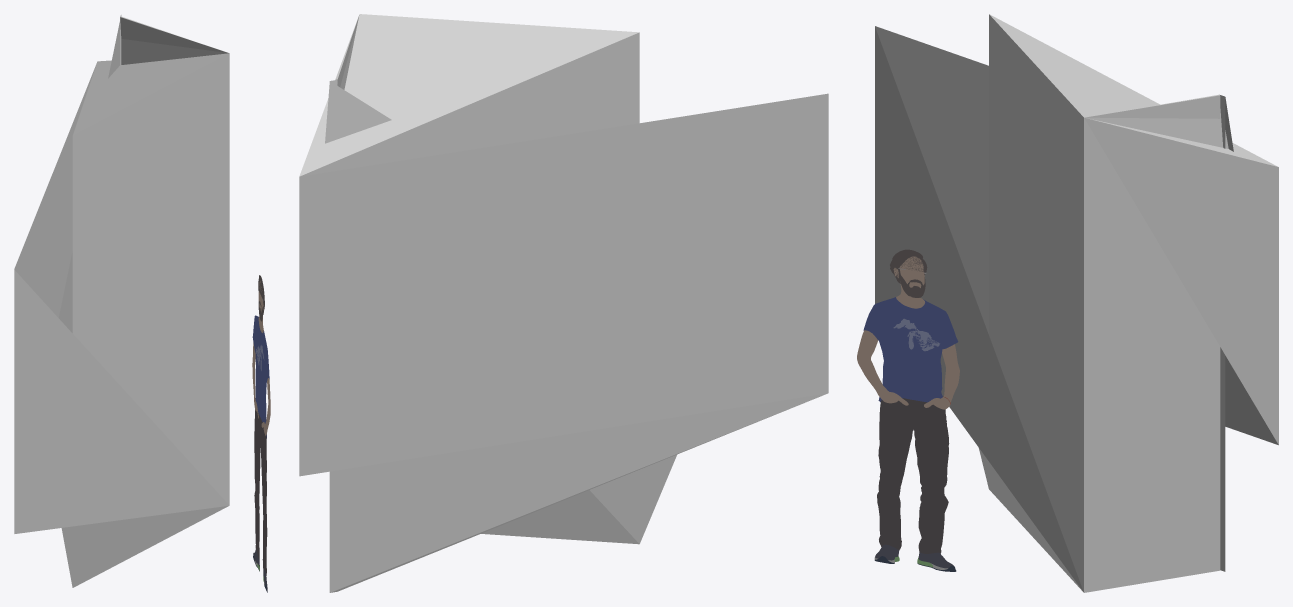
File: trial.fbx
3 renders of one model, left to right at view 1: azimuth 30°, elevation 25°; view 2: azimuth 150°, elevation 25°; view 3: azimuth 270°, elevation 25°, orthographic. The views are drawn at different scales.
Visible parts, largest first — view 1: Model, Marc1; view 2: Model; view 3: Model, Marc1.
Part boxes in pixels (x1,y1,x2,y2): Model: (14,15,229,587); Marc1: (252,275,270,592); Model: (299,14,828,592); Model: (875,14,1278,592); Marc1: (857,249,959,571).
Size of the model in its own units: 78.32 by 108 by 86.45.
